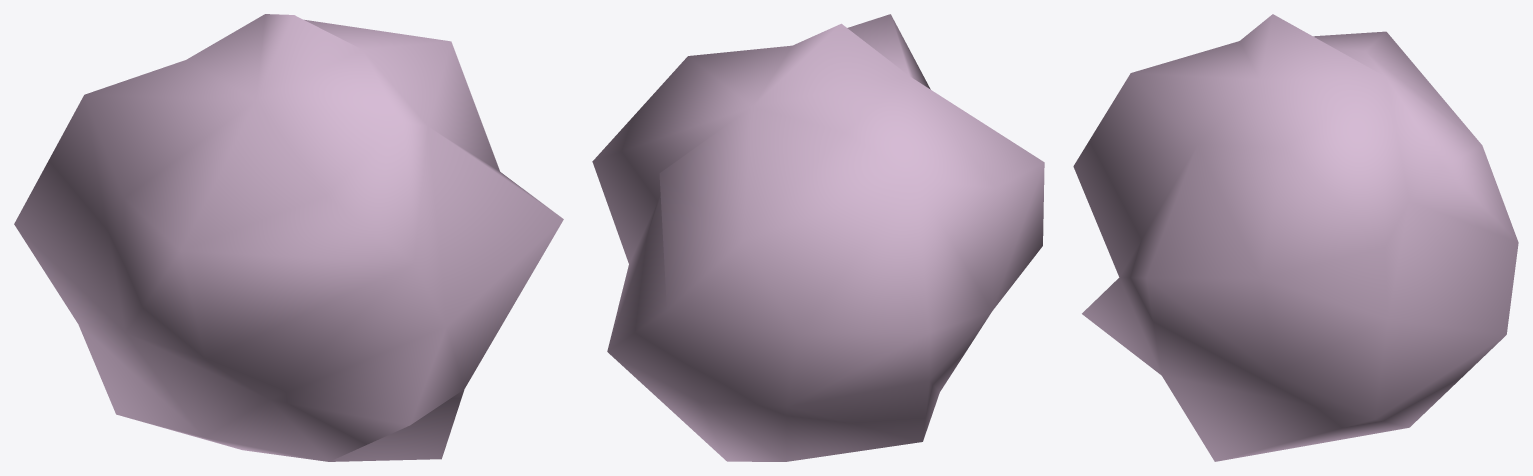
Rendered from Goo.fbx.
3 renders of one model, left to right at view 1: azimuth 30°, elevation 25°; view 2: azimuth 150°, elevation 25°; view 3: azimuth 270°, elevation 25°, orthographic. The views are drawn at different scales.
Parts seen in each view (by area): view 1: Icosphere; view 2: Icosphere; view 3: Icosphere.
Boxes of the visible parts, left/top/right/bottom form: Icosphere: left=14, top=14, right=563, bottom=461; Icosphere: left=592, top=14, right=1044, bottom=461; Icosphere: left=1073, top=14, right=1518, bottom=461.
Size of the model in its own units: 28.15 by 30 by 30.41.
